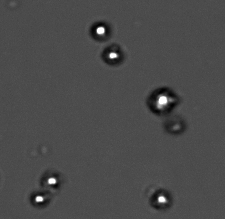Dead Cell: (164, 115, 186, 136)
Living Cell: (145, 85, 181, 115), (99, 43, 128, 66), (149, 187, 175, 210), (40, 169, 66, 190), (89, 21, 115, 41), (28, 189, 51, 208)
